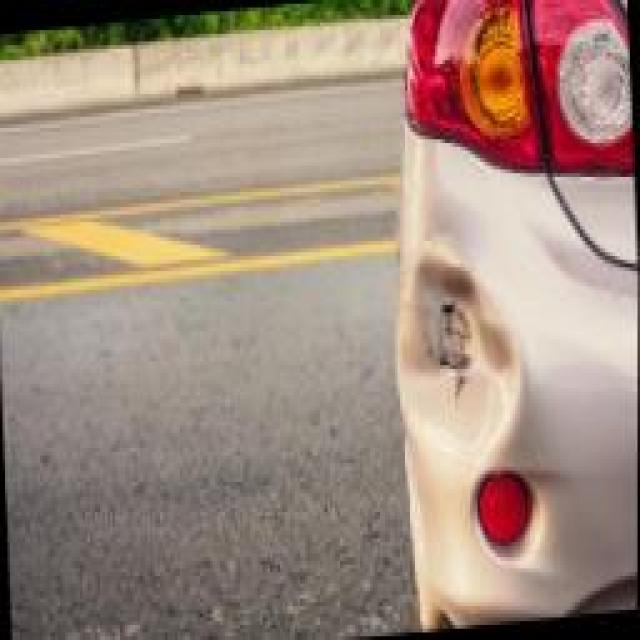Bumper: (388, 211, 551, 587)
